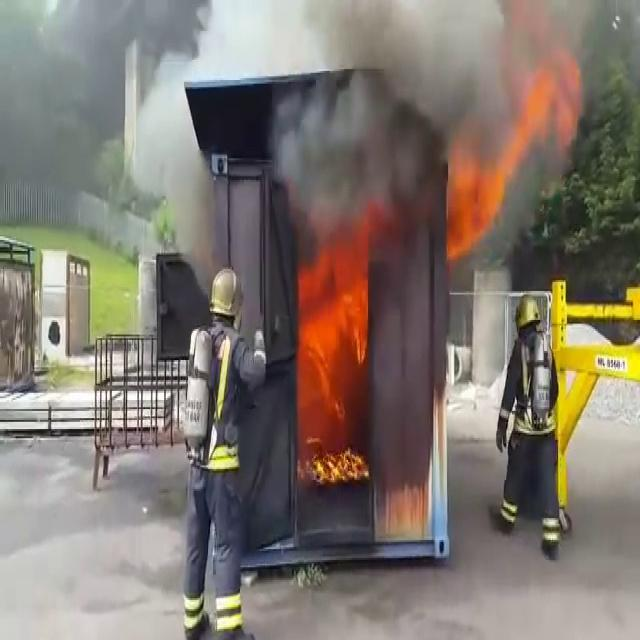Fire: (299, 248, 361, 480), (450, 146, 498, 237)
Smoke: (226, 0, 533, 125), (276, 136, 409, 218)
